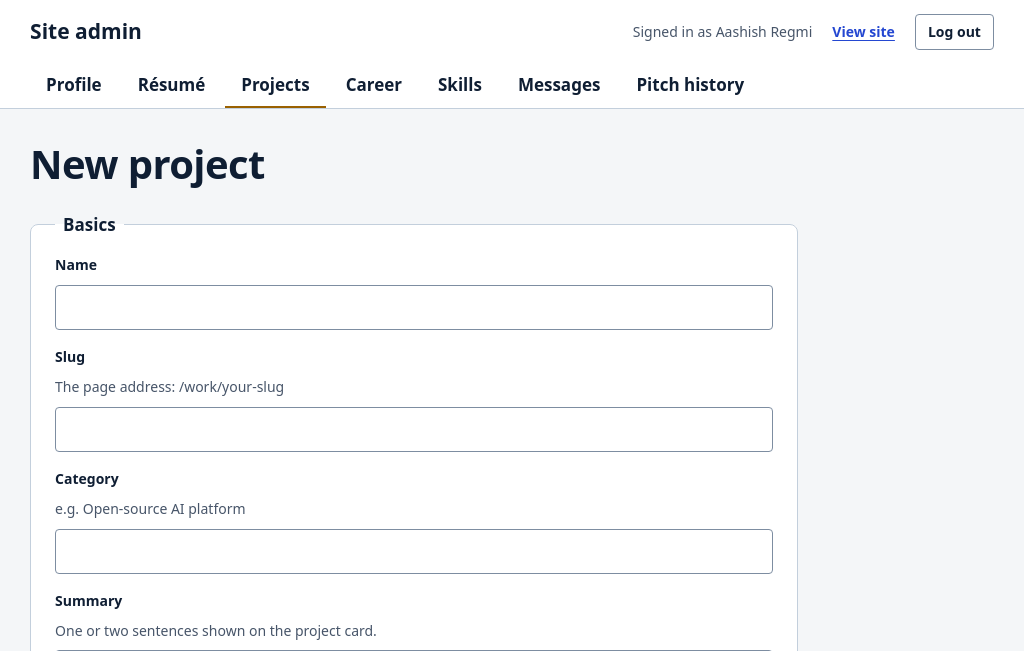
Test: projects › asks before leaving a form with unsaved changes
This screenshot has width=1024, height=651.
Type "Unsaved" into the field labelled "Name" at [414, 307], box [55,285,773,330]
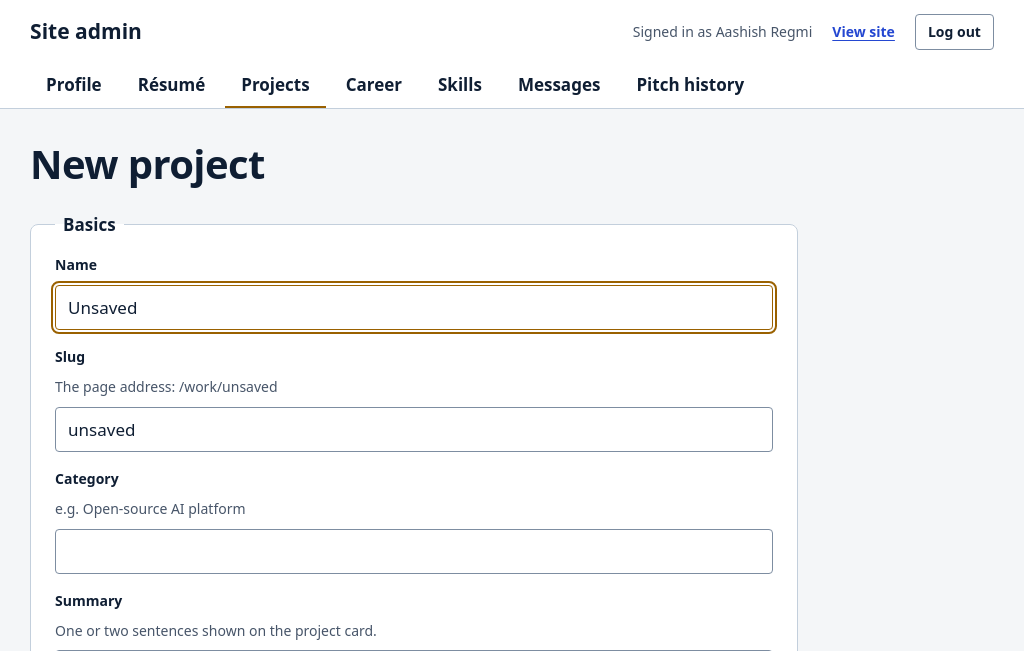
Click the link "Career" at [374, 85], box [346,73,402,96]
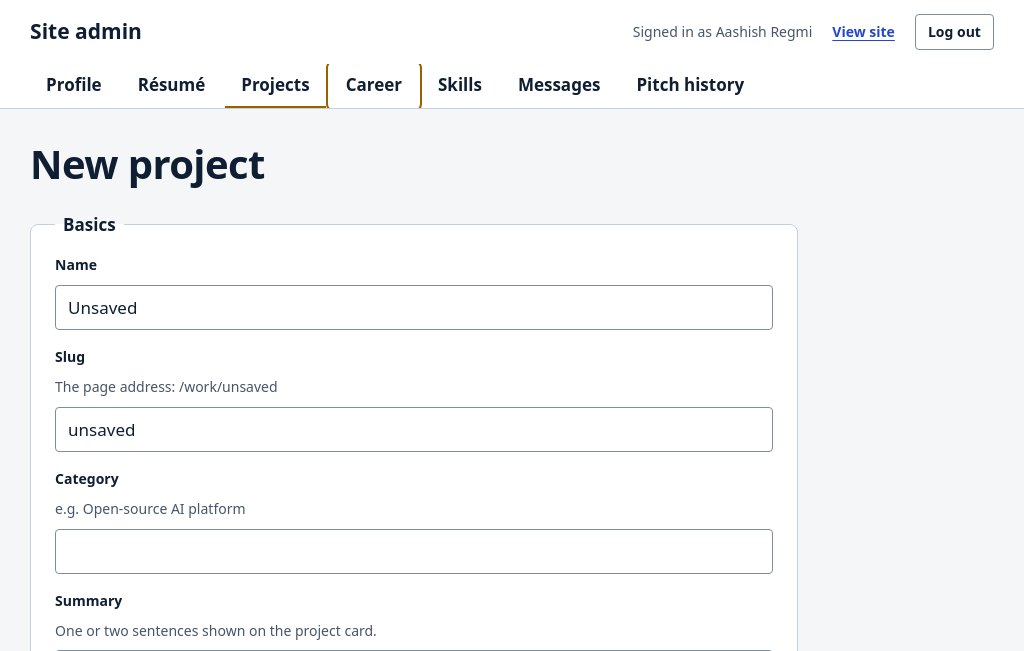
Check: the heading "New project" is shown, box [30,141,265,187]
Click the link "Career" at [374, 85], box [346,73,402,96]
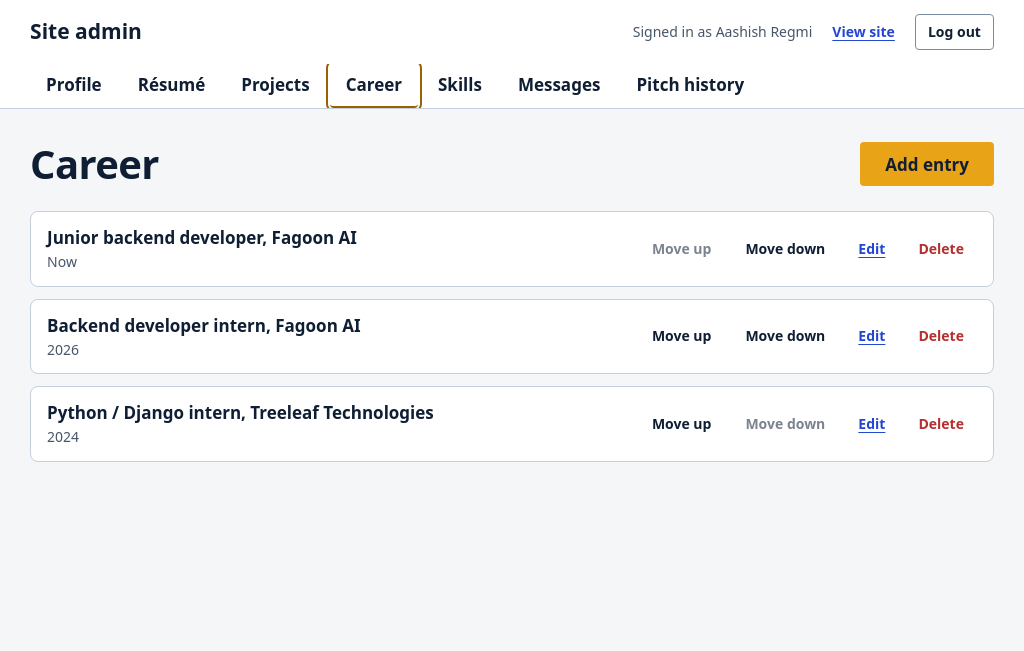
Check: the heading "Career" is shown, box [30,141,159,187]
